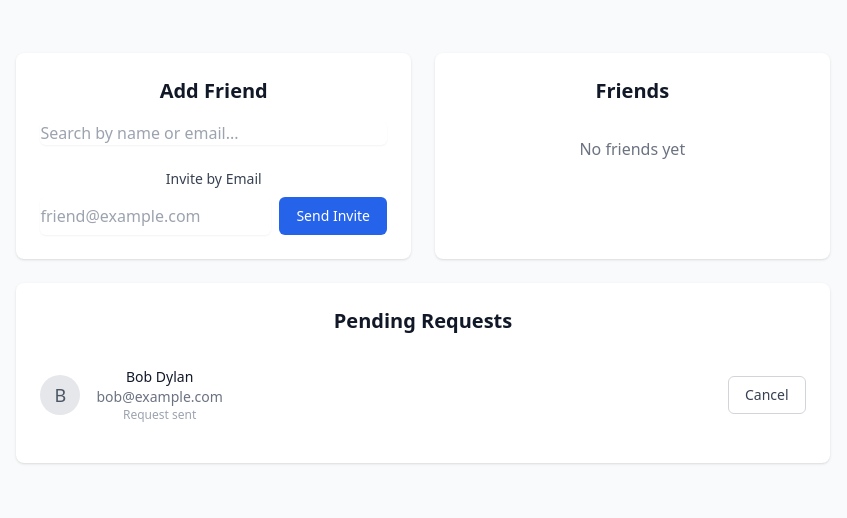
Friends.vue › handles error when canceling friend request
# Click Cancel button
Click the button "Cancel": [767, 395] box [728,376,806,414]
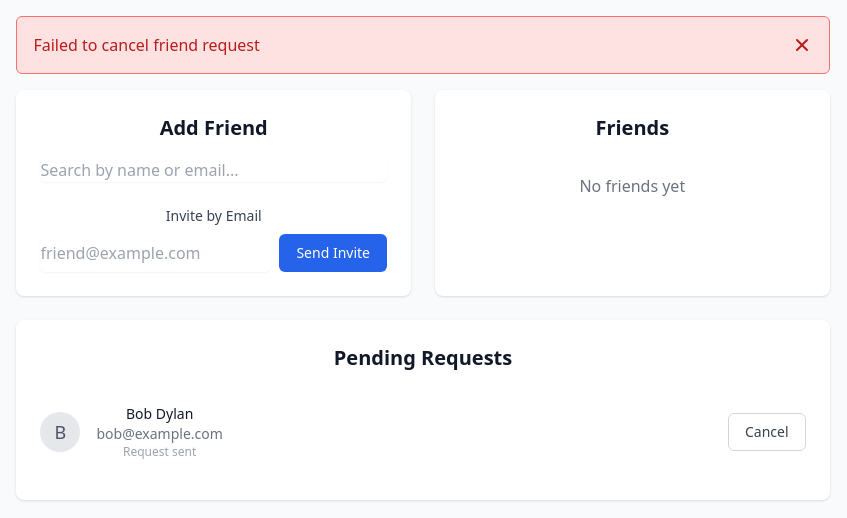
Now the text "Failed to cancel friend request" is shown, box [33,33,260,57]
